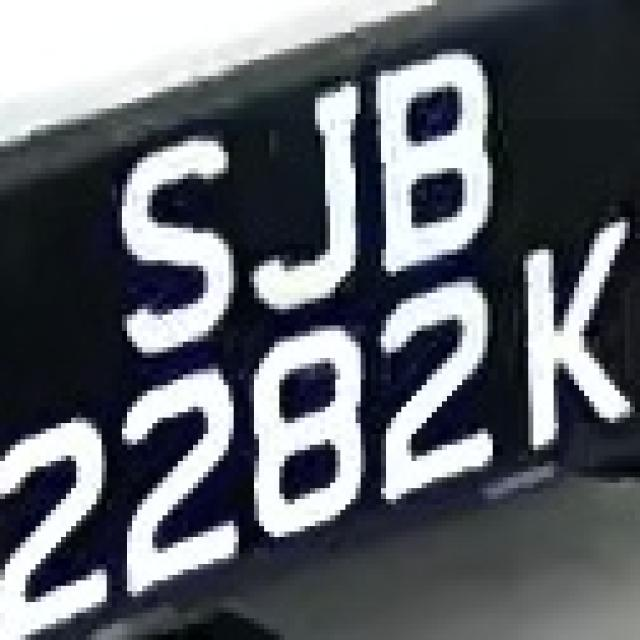2: (117, 337, 249, 608), (371, 276, 503, 532), (10, 412, 127, 640)
8: (228, 314, 370, 548)
B: (356, 38, 498, 271)
J: (218, 59, 366, 326)
K: (508, 217, 635, 466)
S: (86, 119, 234, 347)
